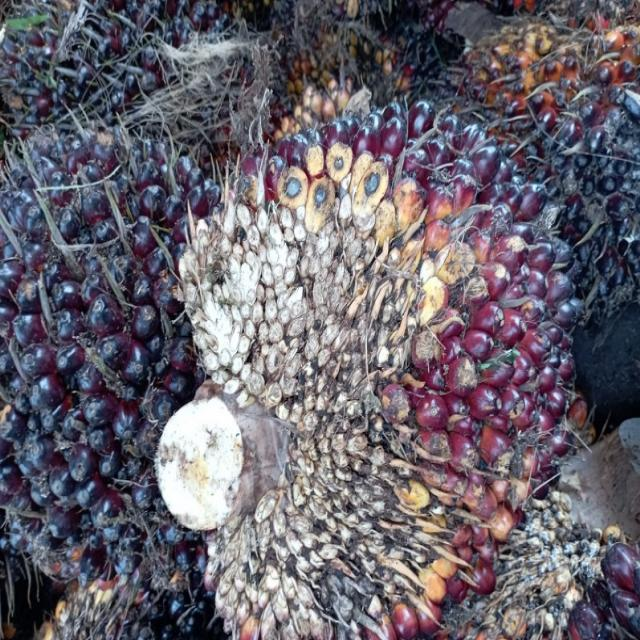fraksi 1: (161, 48, 574, 640)
